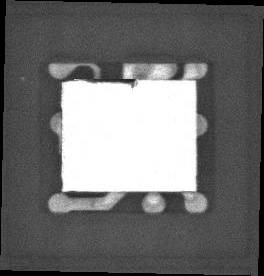DIE_BROKEN: (81, 76, 139, 88)
